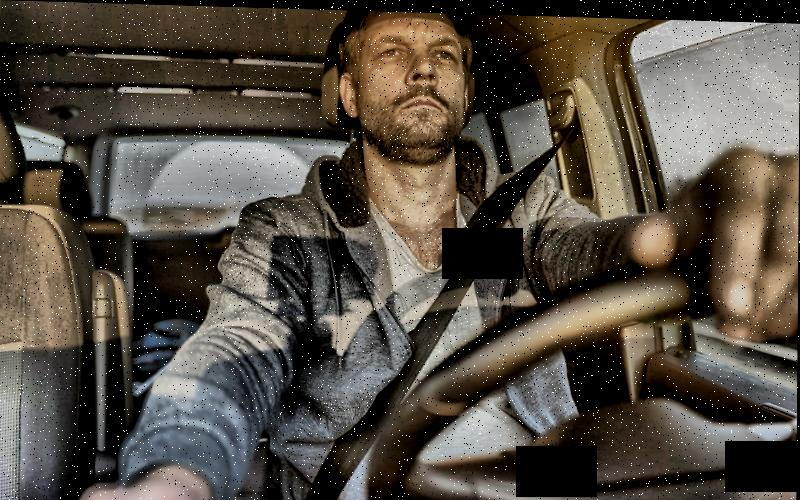seatbelt: (286, 98, 592, 500)
